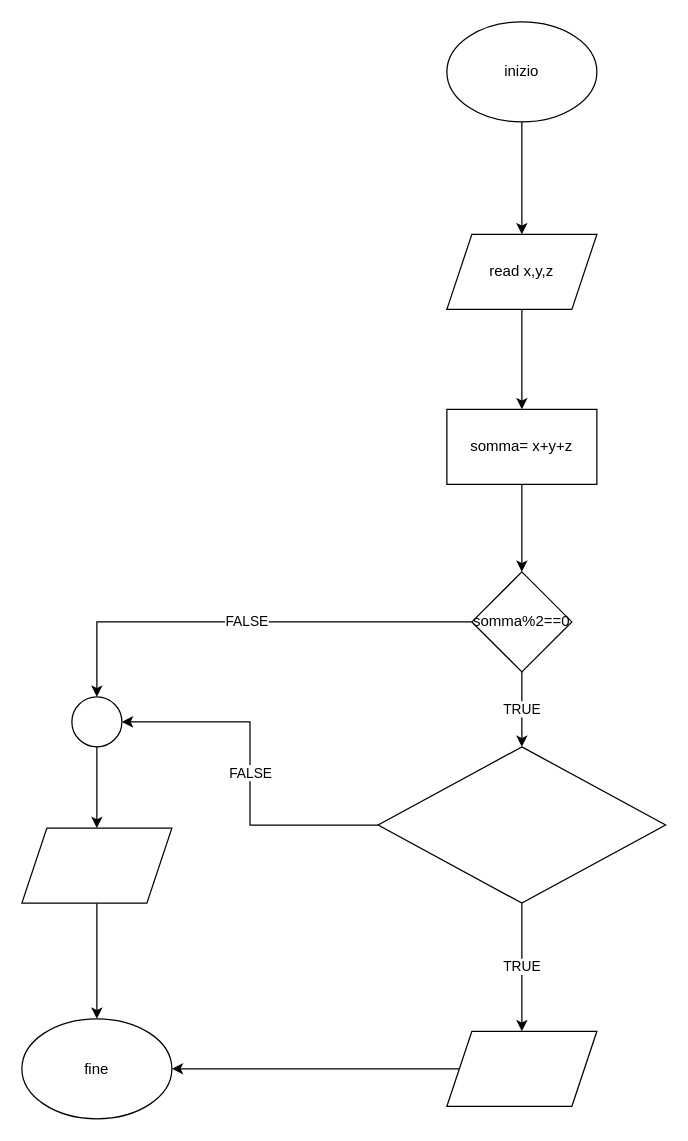
The diagram is 688 pixels wide and 1141 high, and some of its shapes have lost their labels. Each missing label, with the centre of its shape:
write "regole non rispettate": the point at 96,865
write "Regole rispettate": the point at 521,1068
x%3==0 AND y%5==0 AND Z%7==0: the point at 521,824
